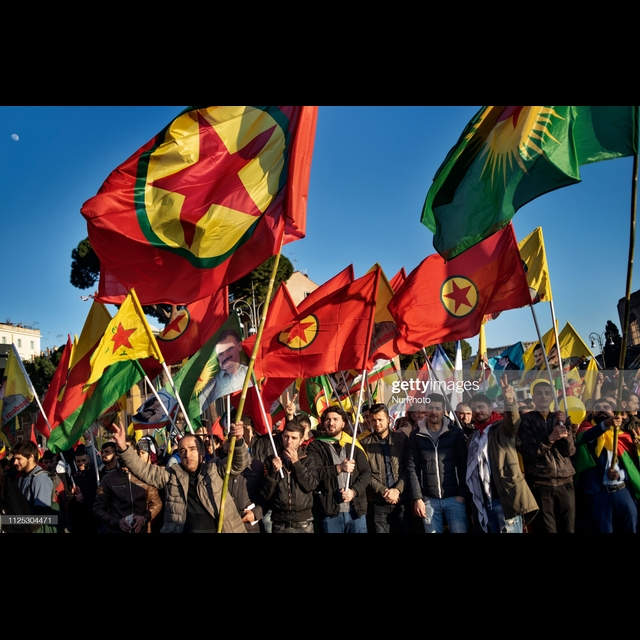APO: (214, 329, 239, 376)
PKK: (138, 112, 285, 271), (436, 275, 479, 320), (281, 314, 321, 350), (156, 307, 191, 340)
YPG: (97, 318, 138, 359)
